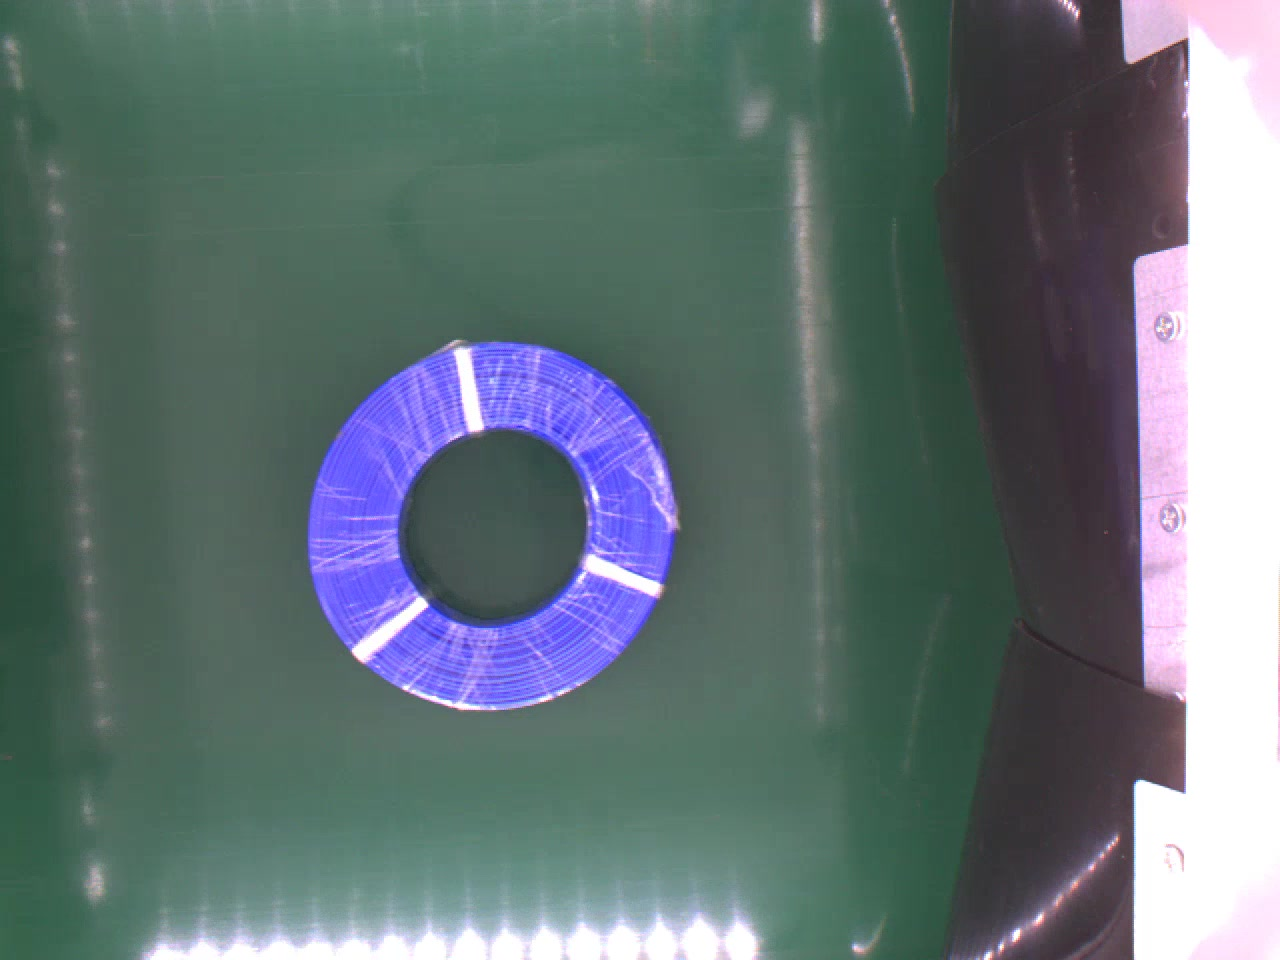blue: (302, 326, 693, 710)
